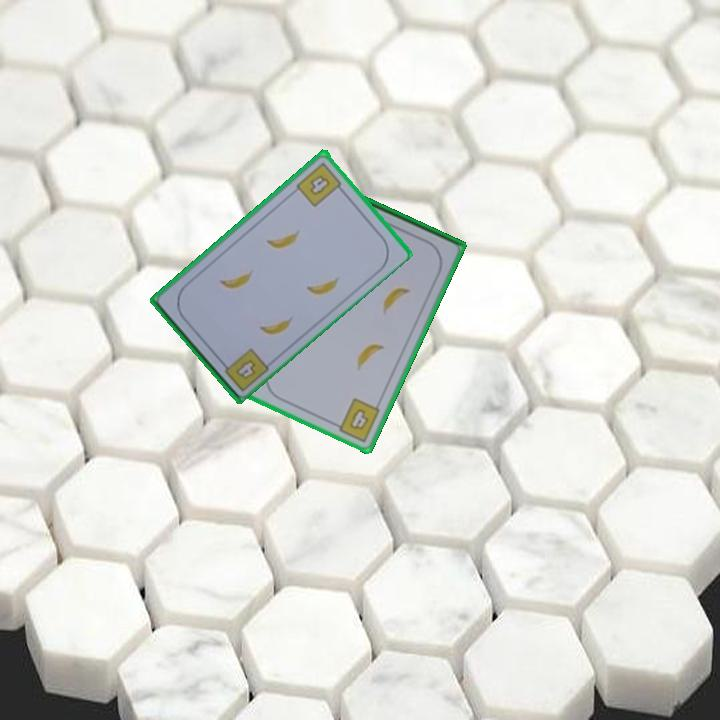4b: (293, 158, 347, 209), (330, 394, 383, 445), (235, 356, 259, 382)
